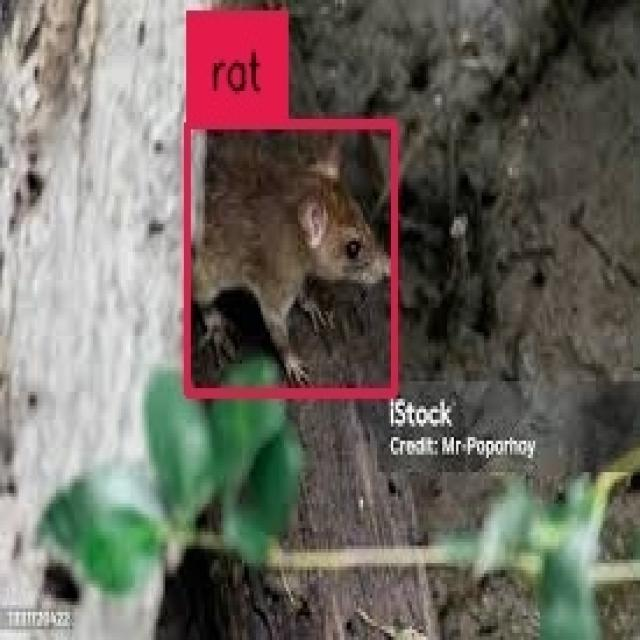rat: (188, 126, 396, 392)
